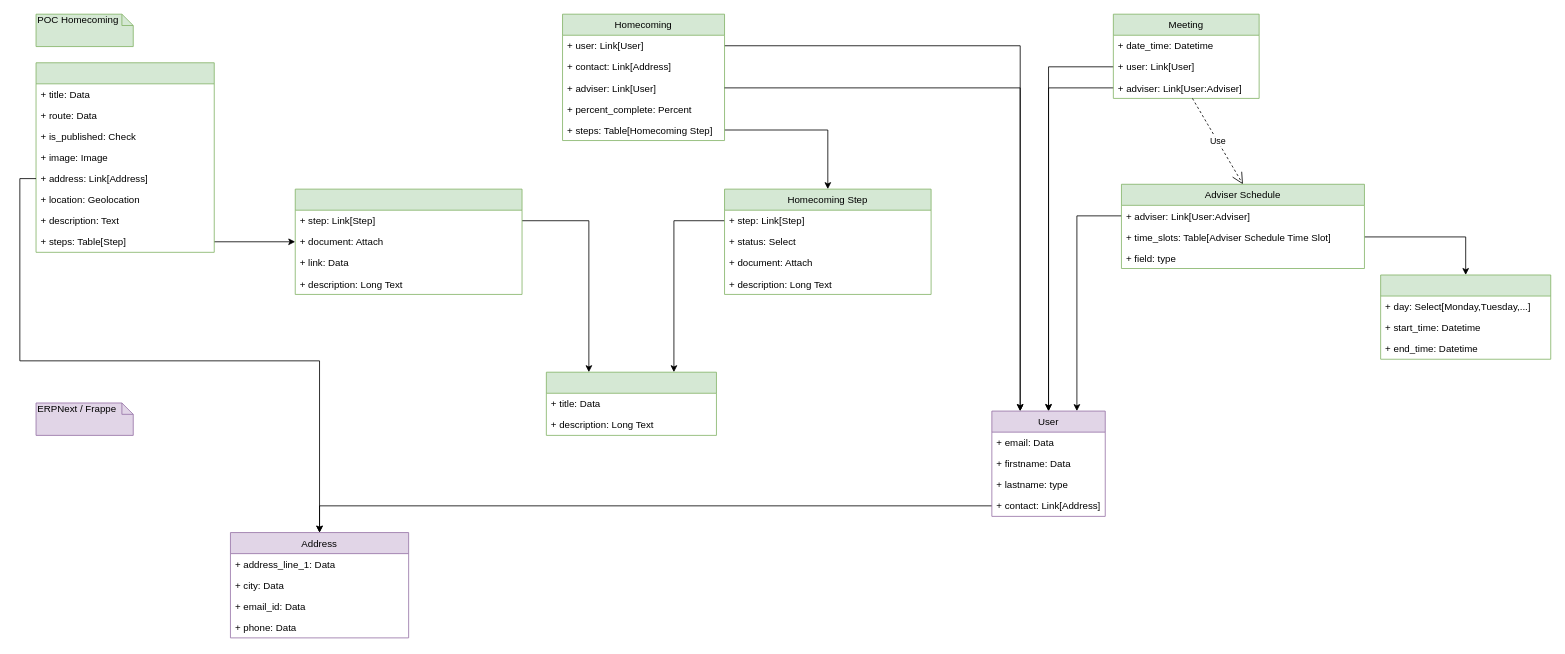
Some shapes in this 1565 by 654 pixel diagram are drawn without their labels. The shapes that lost their labels are listed below. From the top down, each one's box as (x1, y1, x2, y2) in pixels, then its label:
(35, 62, 214, 252): Organization
(294, 188, 522, 294): Organization Step
(1380, 274, 1551, 359): Adviser Schedule Time Slot
(546, 371, 716, 435): Step
